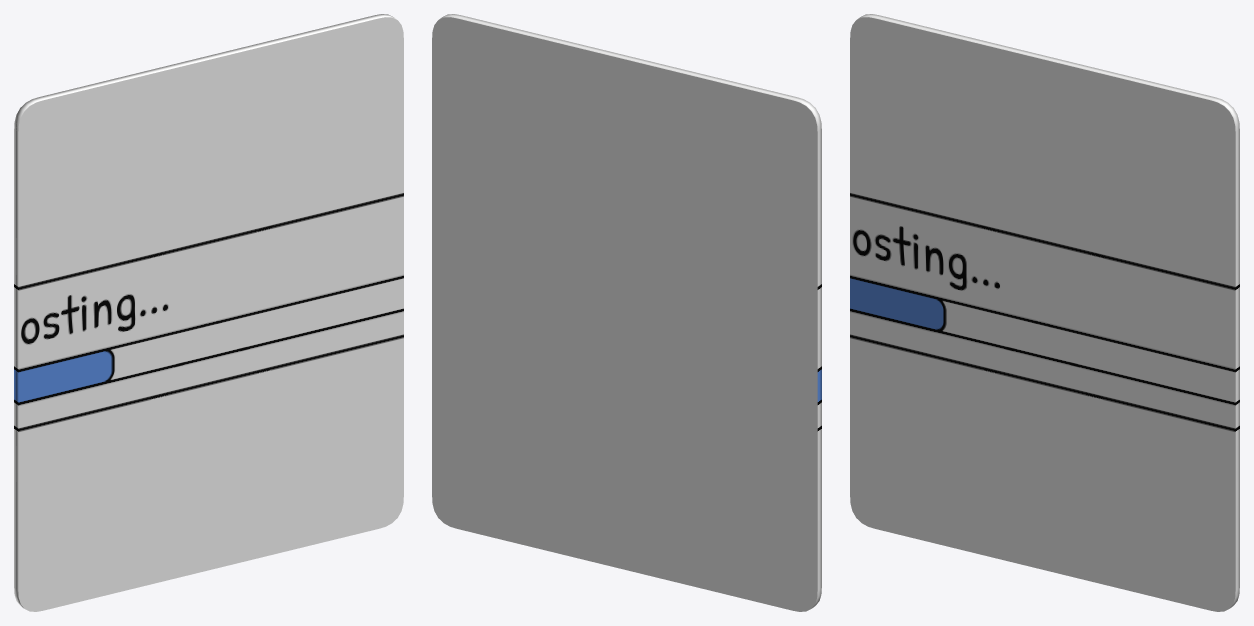
The model's file is OLDEp5_Notification-B.fbx.
3 renders of one model, left to right at view 1: azimuth 30°, elevation 25°; view 2: azimuth 150°, elevation 25°; view 3: azimuth 330°, elevation 25°, orthographic.
Visible parts, largest first — view 1: Notifications-B; view 2: Notifications-B; view 3: Notifications-B.
Boxes of the visible parts, x1,y1,x2,y2 form: Notifications-B: (14, 14, 403, 611); Notifications-B: (432, 14, 821, 611); Notifications-B: (850, 14, 1239, 611).
Size of the model in its own units: 1167 by 1477 by 22.62.
